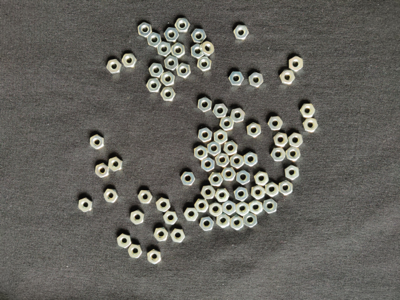nut: (191, 28, 207, 44), (106, 59, 122, 75), (156, 197, 172, 213), (303, 118, 319, 133), (286, 146, 301, 162), (285, 165, 300, 181), (274, 132, 289, 148), (268, 116, 284, 131), (249, 72, 264, 88), (247, 122, 262, 138), (234, 25, 250, 40), (229, 71, 245, 86), (230, 108, 246, 123), (223, 141, 239, 156), (198, 127, 213, 143), (208, 172, 224, 187), (200, 41, 215, 57), (197, 56, 212, 72), (175, 18, 191, 33), (177, 63, 192, 79), (171, 43, 186, 59), (164, 28, 180, 43), (161, 71, 176, 87), (147, 32, 162, 48), (138, 22, 153, 38), (147, 249, 162, 265), (90, 134, 105, 150), (280, 70, 295, 85), (289, 133, 304, 148), (263, 199, 278, 214), (251, 185, 266, 200), (243, 213, 258, 228), (234, 187, 249, 202), (215, 153, 230, 168), (215, 188, 230, 203), (200, 217, 215, 232), (157, 42, 172, 57), (149, 63, 164, 78), (122, 53, 137, 68), (154, 227, 169, 242), (128, 244, 143, 259), (117, 234, 132, 249), (78, 198, 93, 213), (289, 56, 303, 72), (300, 104, 316, 118), (279, 180, 293, 196), (254, 172, 270, 186), (230, 215, 244, 231), (213, 104, 229, 118), (198, 97, 212, 113), (214, 129, 228, 145), (163, 211, 179, 225), (271, 148, 286, 162), (249, 200, 263, 215), (244, 152, 258, 167), (236, 202, 250, 217), (220, 117, 235, 131), (230, 154, 244, 169), (222, 168, 237, 182), (223, 201, 237, 216), (201, 185, 216, 199), (201, 157, 215, 172), (194, 146, 208, 161), (181, 172, 196, 186), (195, 199, 210, 213), (184, 208, 199, 222), (165, 56, 179, 71), (161, 87, 176, 101), (171, 229, 186, 243), (138, 190, 153, 204), (131, 210, 145, 225), (104, 189, 119, 203), (109, 157, 123, 172), (96, 163, 110, 178), (266, 182, 279, 198), (237, 169, 250, 185), (208, 141, 221, 157), (217, 213, 230, 229), (210, 202, 223, 217), (191, 44, 204, 59), (147, 79, 160, 93)
